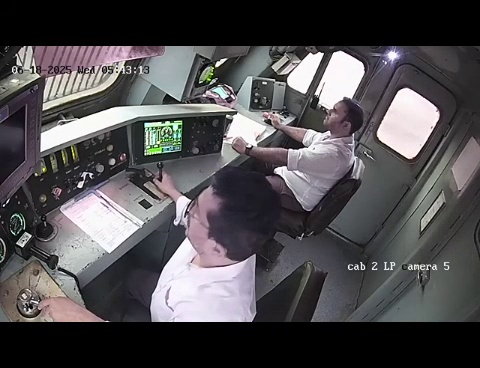brake_applied: (1, 266, 103, 318)
horn_inactive: (23, 207, 68, 247)
